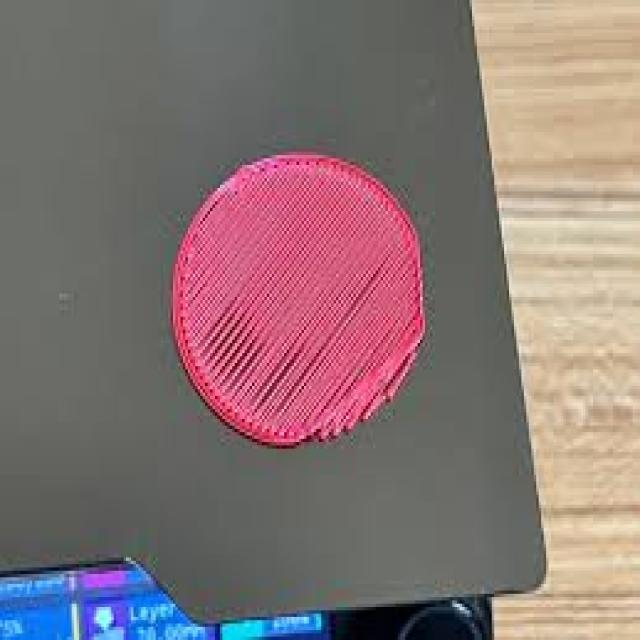cracks: (184, 338, 356, 416)
